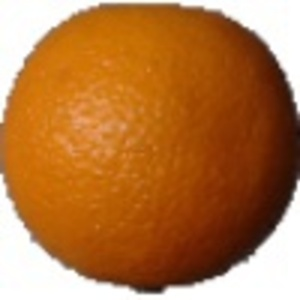laranja: (2, 3, 295, 298)
